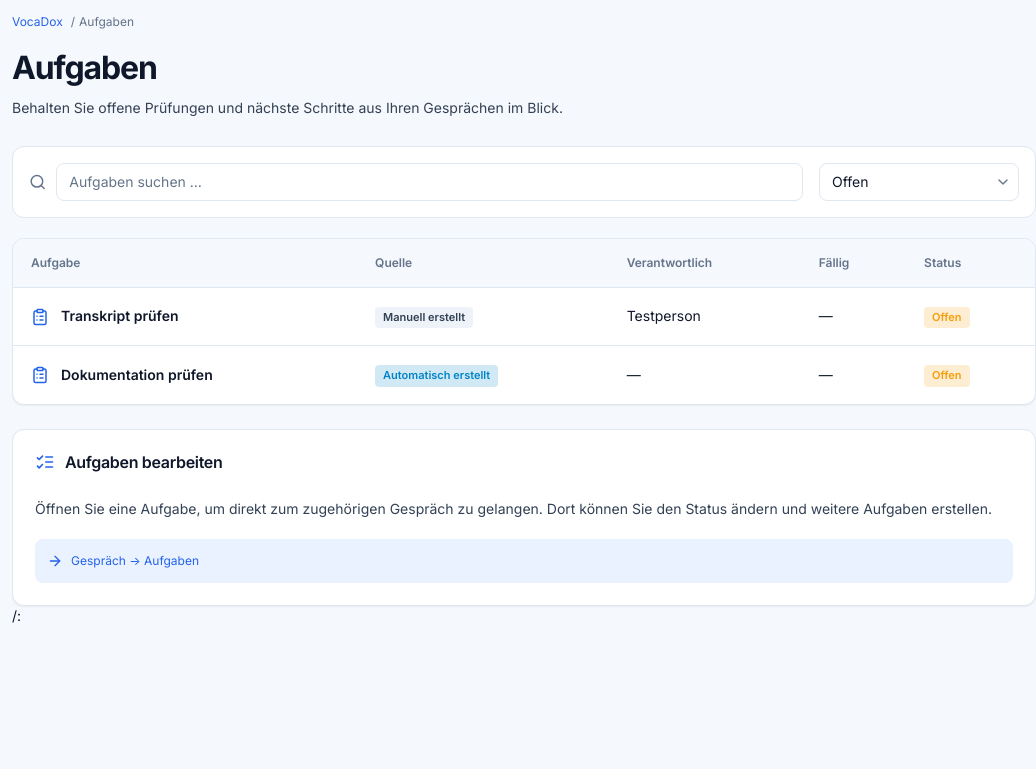
Test case: task search › filters by description or assignee without inventing results
Type "TESTPERSON" into the field labelled "Aufgaben suchen" at [430, 182], box [56,163,803,201]
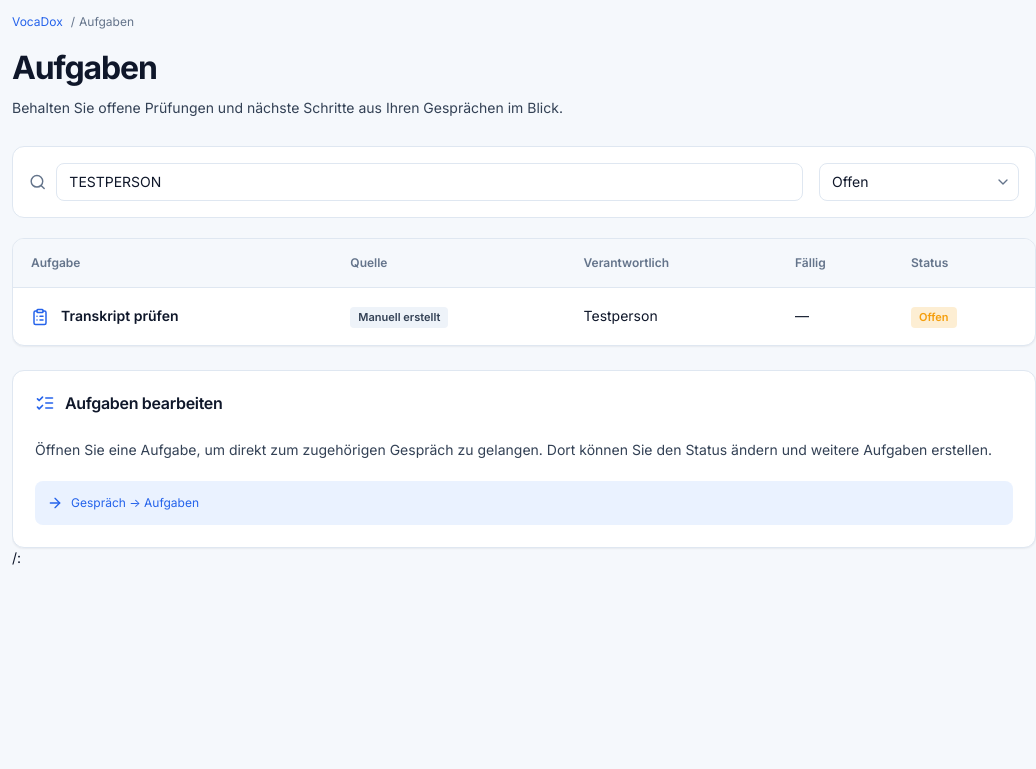
Expected: the text "Transkript prüfen" is shown, [31,307,178,326]
Expected: the button "Dokumentation prüfen" is gone
Replace the text in the field named "Aufgaben suchen" with "unmatched" at [430, 182], box [56,163,803,201]
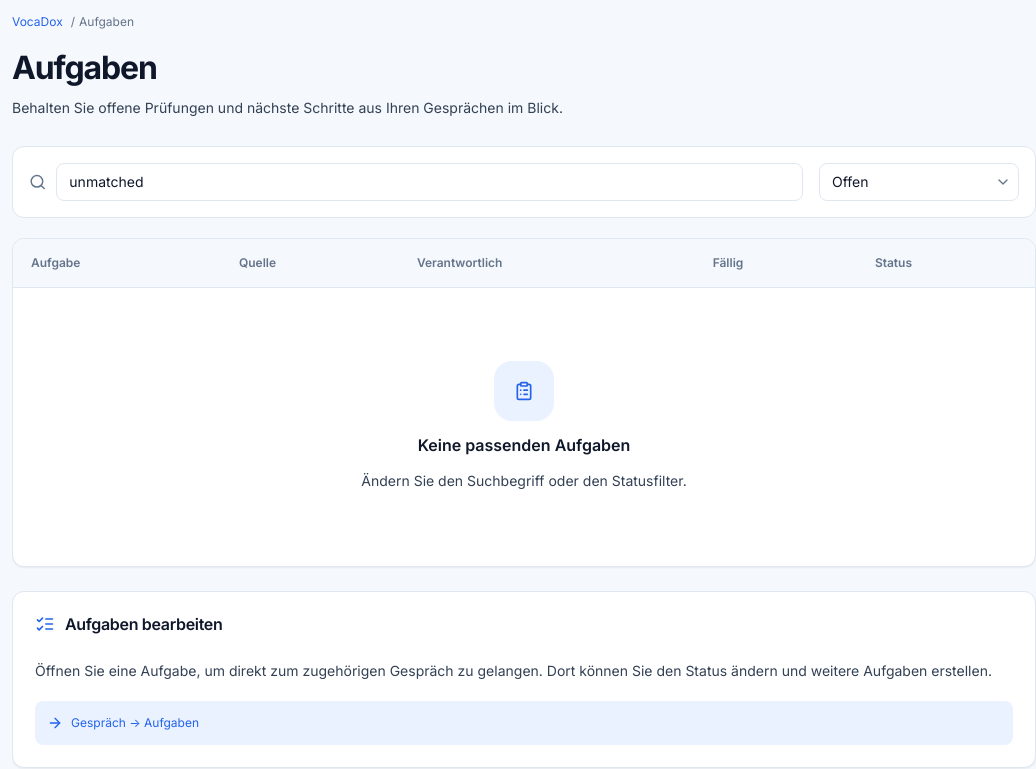
Expected: the text "Keine passenden Aufgaben" is shown, [418,433,630,457]
Clear the field named "Aufgaben suchen" at [430, 182], box [56,163,803,201]
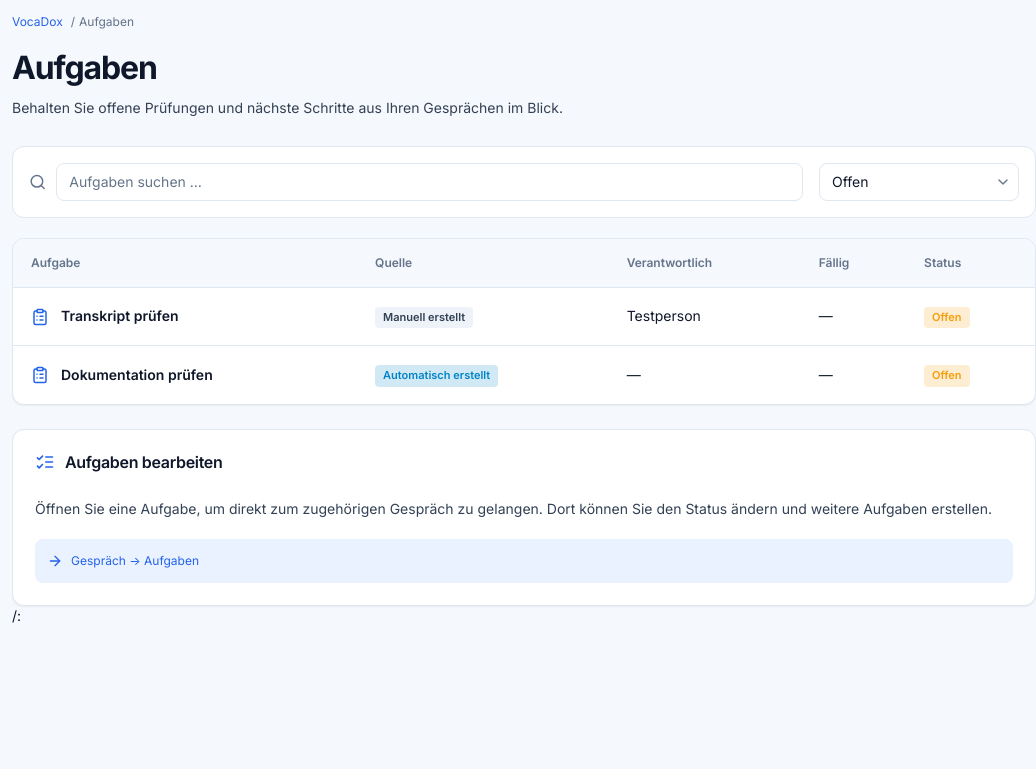
Expected: the text "Dokumentation prüfen" is shown, [31,366,213,384]
